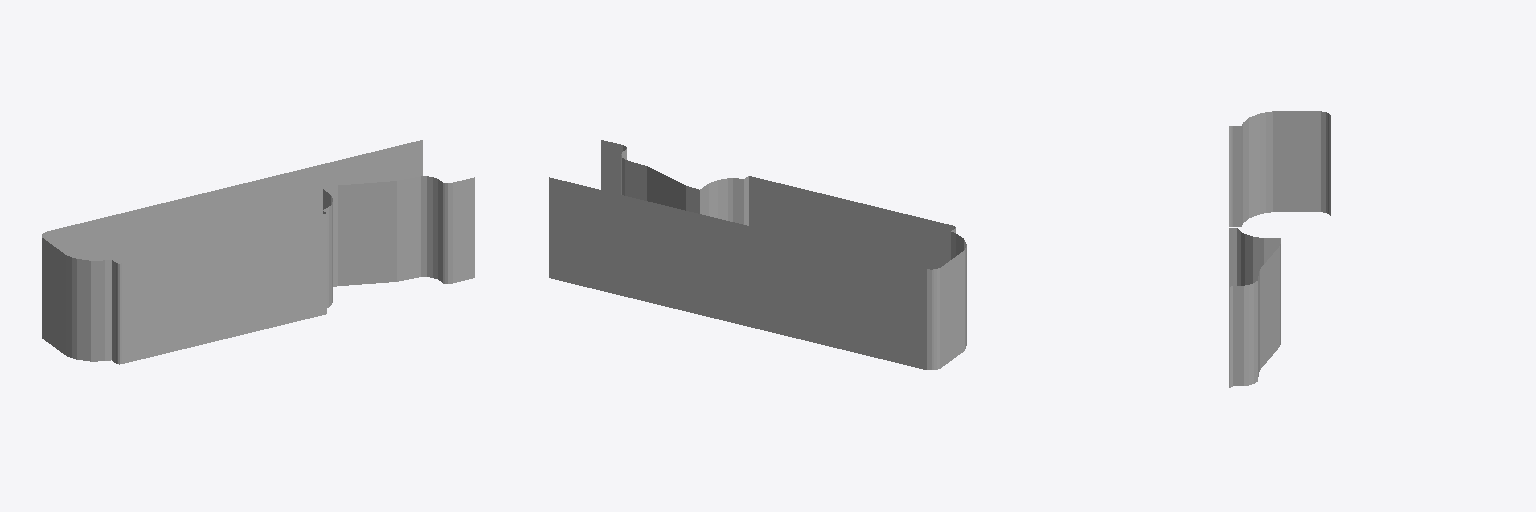
The model's file is original-43.obj.
The picture shows the model from 3 angles: view 1: azimuth 30°, elevation 25°; view 2: azimuth 150°, elevation 25°; view 3: azimuth 270°, elevation 25°; orthographic projection.
Parts seen in each view (by area): view 1: DF_11_CL1/DF_11_CL/mesh30/mesh30-geometry#mesh30-geometry; view 2: DF_11_CL1/DF_11_CL/mesh30/mesh30-geometry#mesh30-geometry; view 3: DF_11_CL1/DF_11_CL/mesh30/mesh30-geometry#mesh30-geometry.
Boxes of the visible parts, box(x1,y1,x2,y2) form: DF_11_CL1/DF_11_CL/mesh30/mesh30-geometry#mesh30-geometry: box(42, 140, 474, 364); DF_11_CL1/DF_11_CL/mesh30/mesh30-geometry#mesh30-geometry: box(549, 140, 966, 369); DF_11_CL1/DF_11_CL/mesh30/mesh30-geometry#mesh30-geometry: box(1229, 111, 1330, 387).
Size of the model in its own units: 0.1169 by 0.0292 by 0.027.